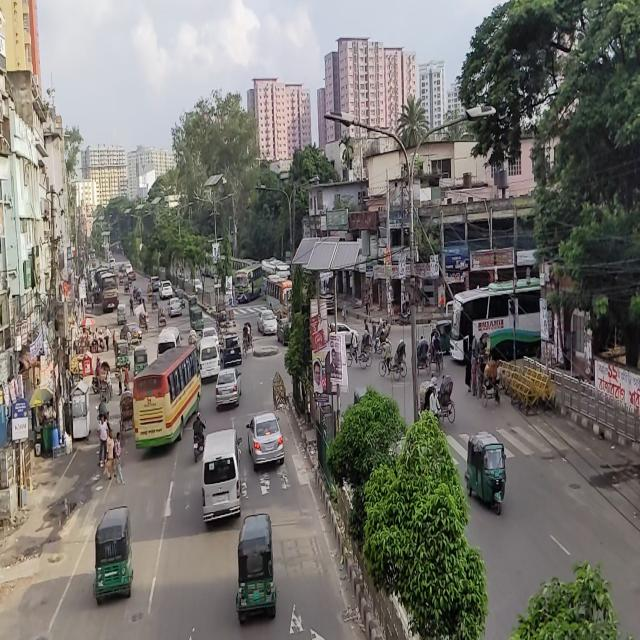black: (221, 336, 243, 365)
silver: (203, 430, 242, 526), (247, 413, 286, 468), (215, 372, 242, 408)
